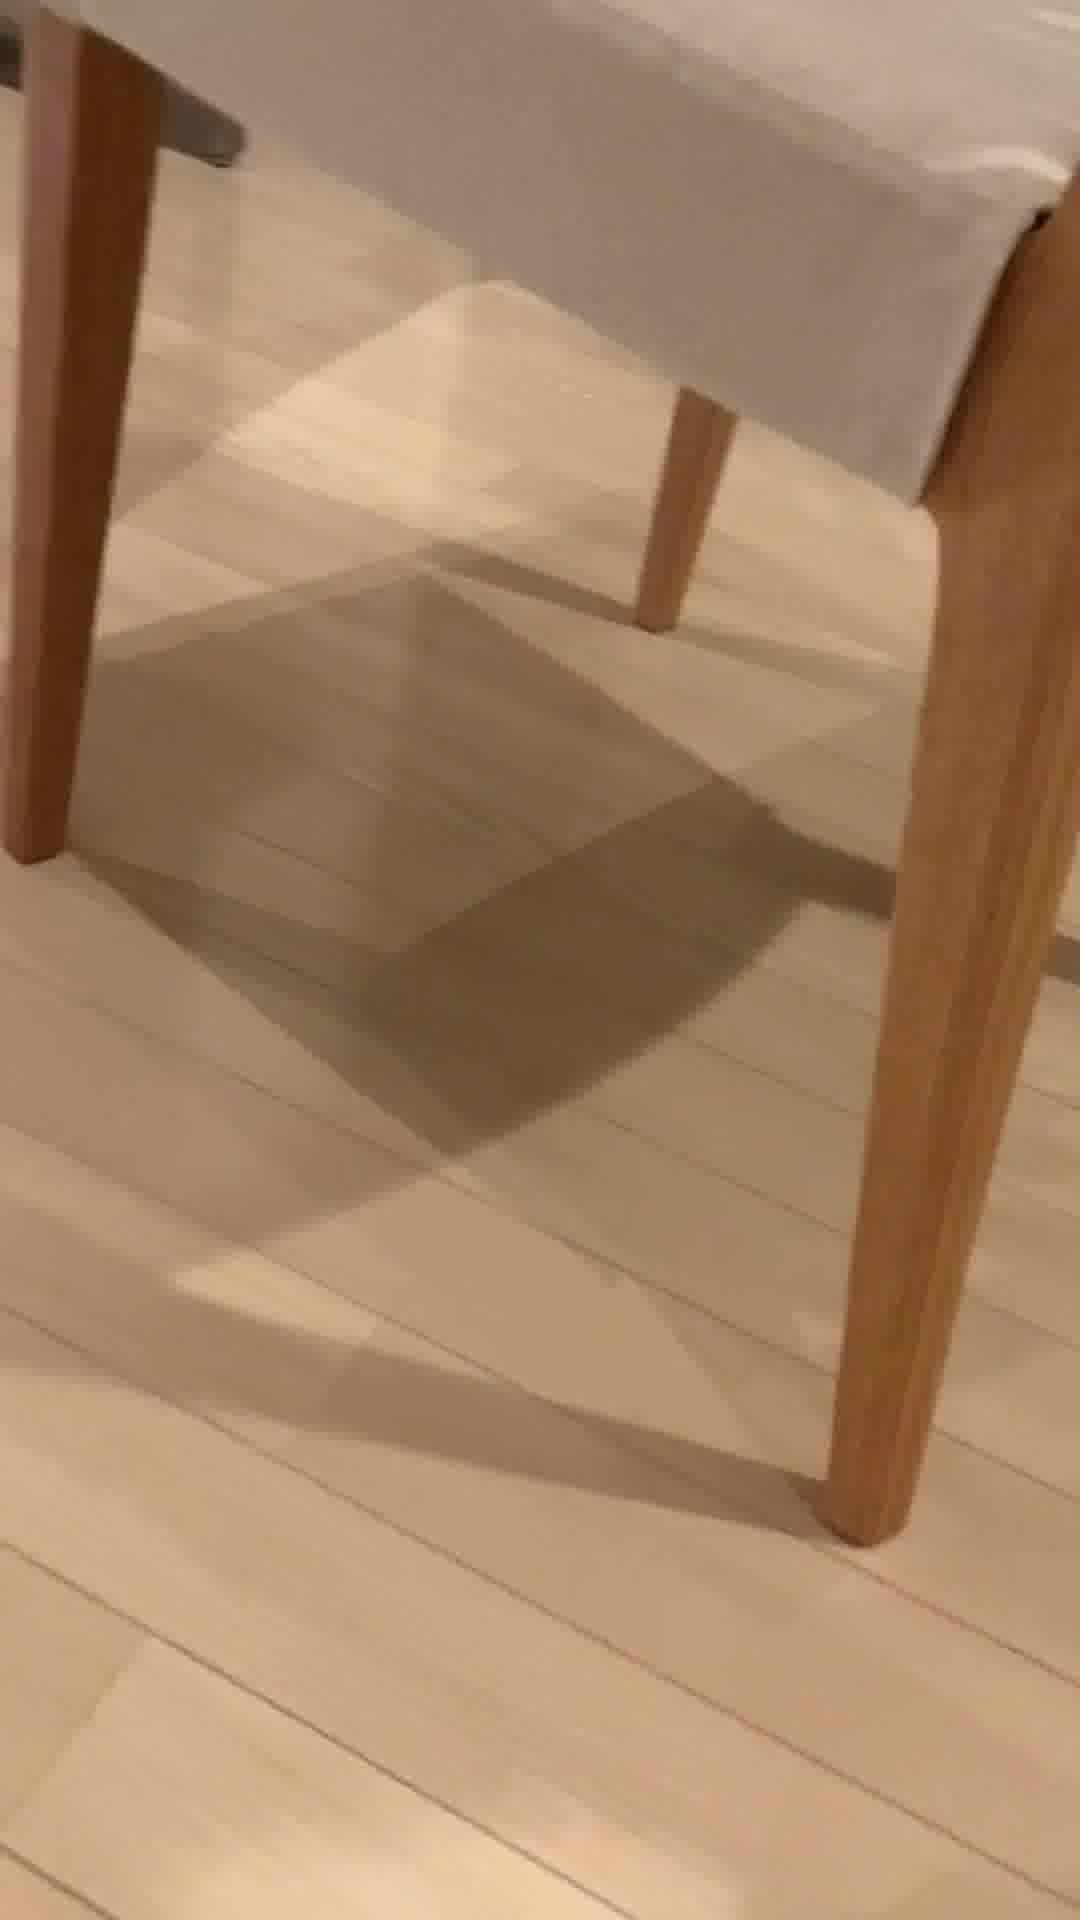takumikan-chair: (0, 0, 1080, 1547)
